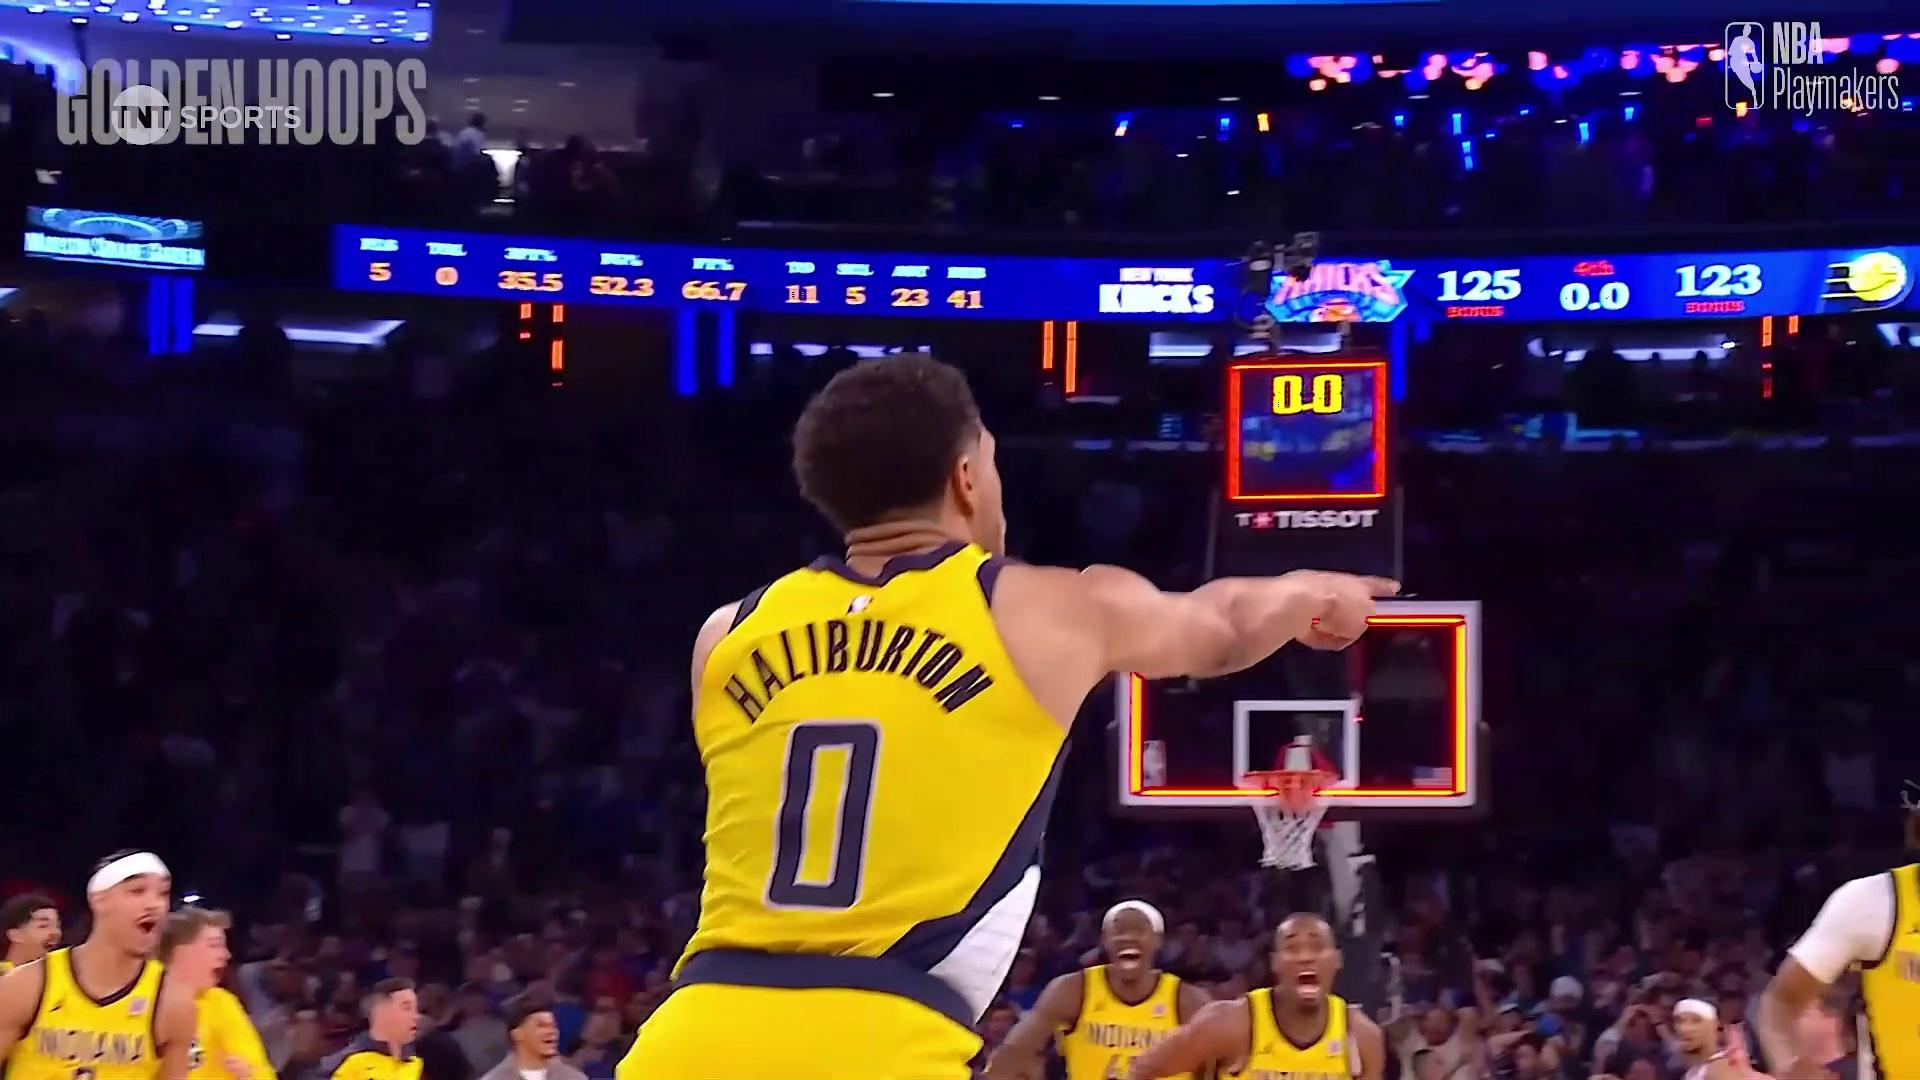hoop: (1247, 765, 1333, 876)
